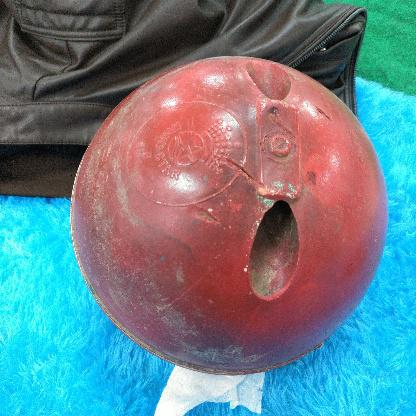red_buoy: (70, 55, 390, 378)
